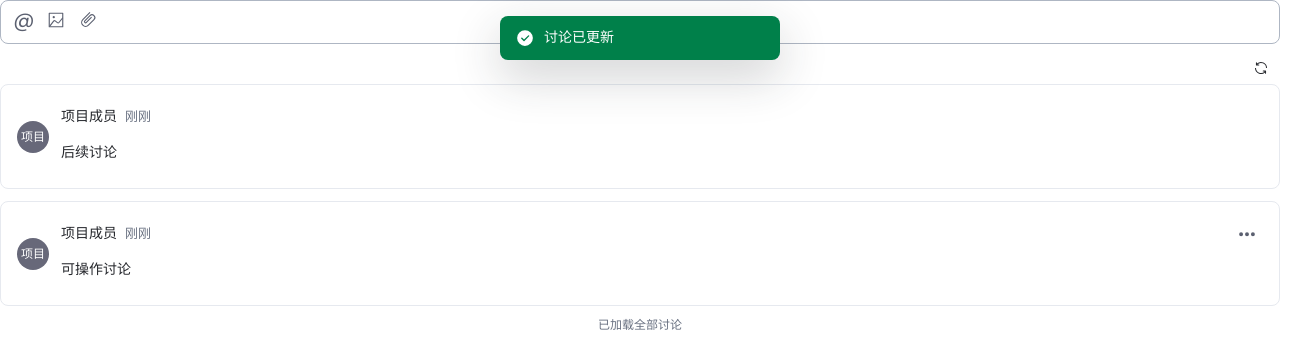
Test case: WorkItemDiscussion › 作者删除二次确认后移除讨论串
The width and height of the screenshot is (1292, 352).
Click the button named "评论操作" at (1247, 234), box [1231, 220, 1263, 248]
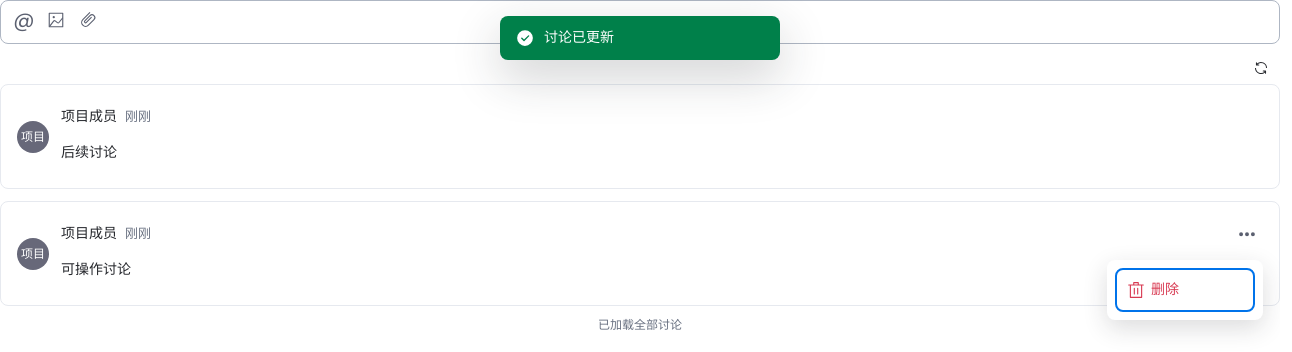
Expected: the menu item "删除" is shown
Click the menu item "删除" at (1185, 290), box [1119, 272, 1251, 308]
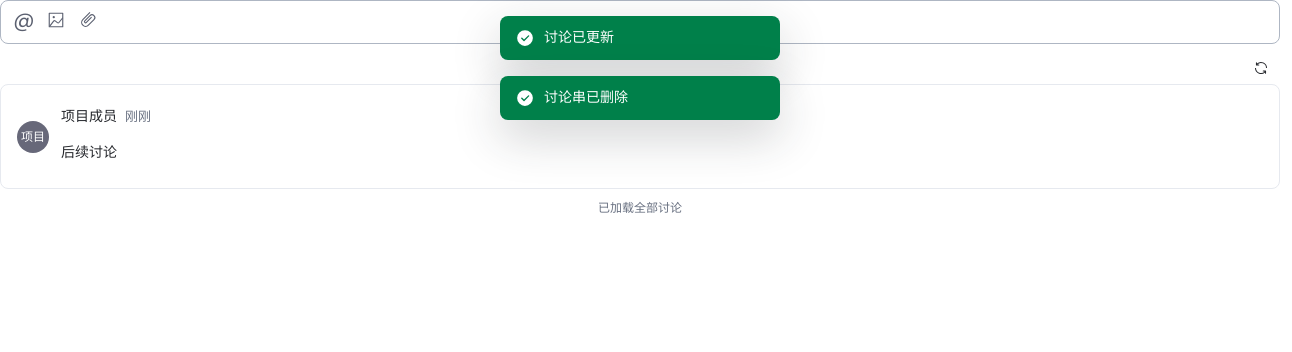
Expected: the element with class "discussion-update" shows "后续讨论", [61, 144, 117, 161]
Expected: the number of elements with class "discussion-update" is 1, [0, 84, 1280, 189]
